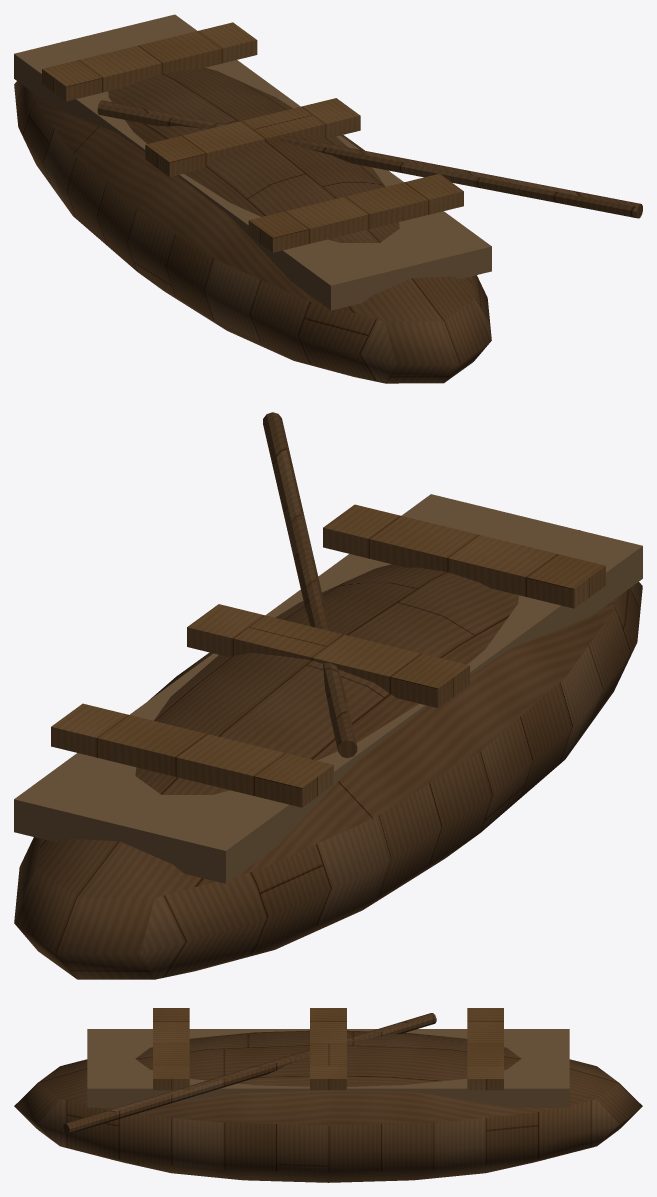
The model's file is prop_skiff.glb.
3 renders of one model, top to bottom at view 1: azimuth 30°, elevation 25°; view 2: azimuth 150°, elevation 25°; view 3: azimuth 270°, elevation 25°, orthographic. The views are drawn at different scales.
Parts seen in each view (by area): view 1: base__art06_WoodStructural, base__art06_WoodDeck, base__dark_oak; view 2: base__art06_WoodStructural, base__art06_WoodDeck, base__dark_oak; view 3: base__art06_WoodStructural, base__dark_oak, base__art06_WoodDeck.
Part boxes in pixels (bbox=[...]): base__art06_WoodStructural: bbox=[14, 41, 642, 383]; base__art06_WoodDeck: bbox=[42, 22, 463, 252]; base__dark_oak: bbox=[14, 14, 491, 310]; base__art06_WoodStructural: bbox=[14, 412, 642, 979]; base__art06_WoodDeck: bbox=[51, 504, 605, 807]; base__dark_oak: bbox=[14, 494, 642, 883]; base__art06_WoodStructural: bbox=[14, 1013, 642, 1182]; base__dark_oak: bbox=[87, 1029, 569, 1107]; base__art06_WoodDeck: bbox=[153, 1008, 503, 1090].
Size of the model in its own units: 2.89 by 1.31 by 6.
3 materials, 2 textured.
